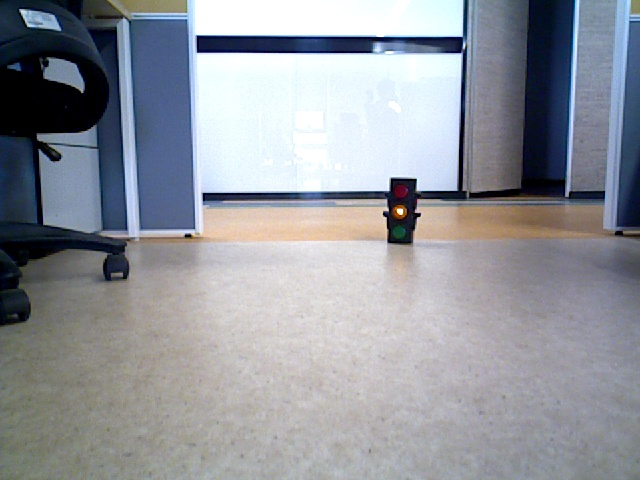yellow: (388, 180, 411, 242)
